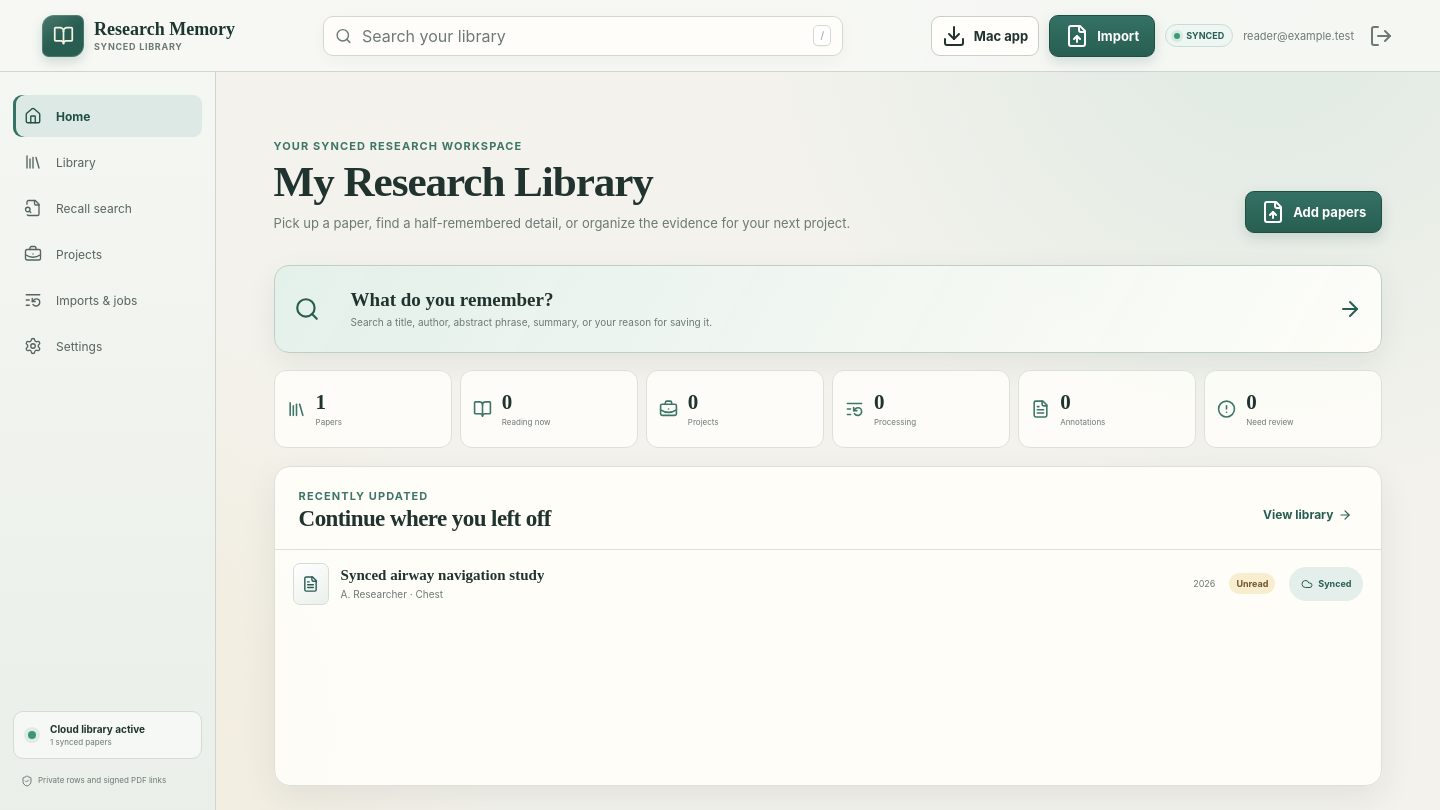
creates a project from the responsive projects view
The width and height of the screenshot is (1440, 810).
Expected: the heading "My Research Library" is shown, x1=274 y1=158 x2=653 y2=205
Click the button "Projects": (108, 254) x1=13 y1=233 x2=202 y2=275
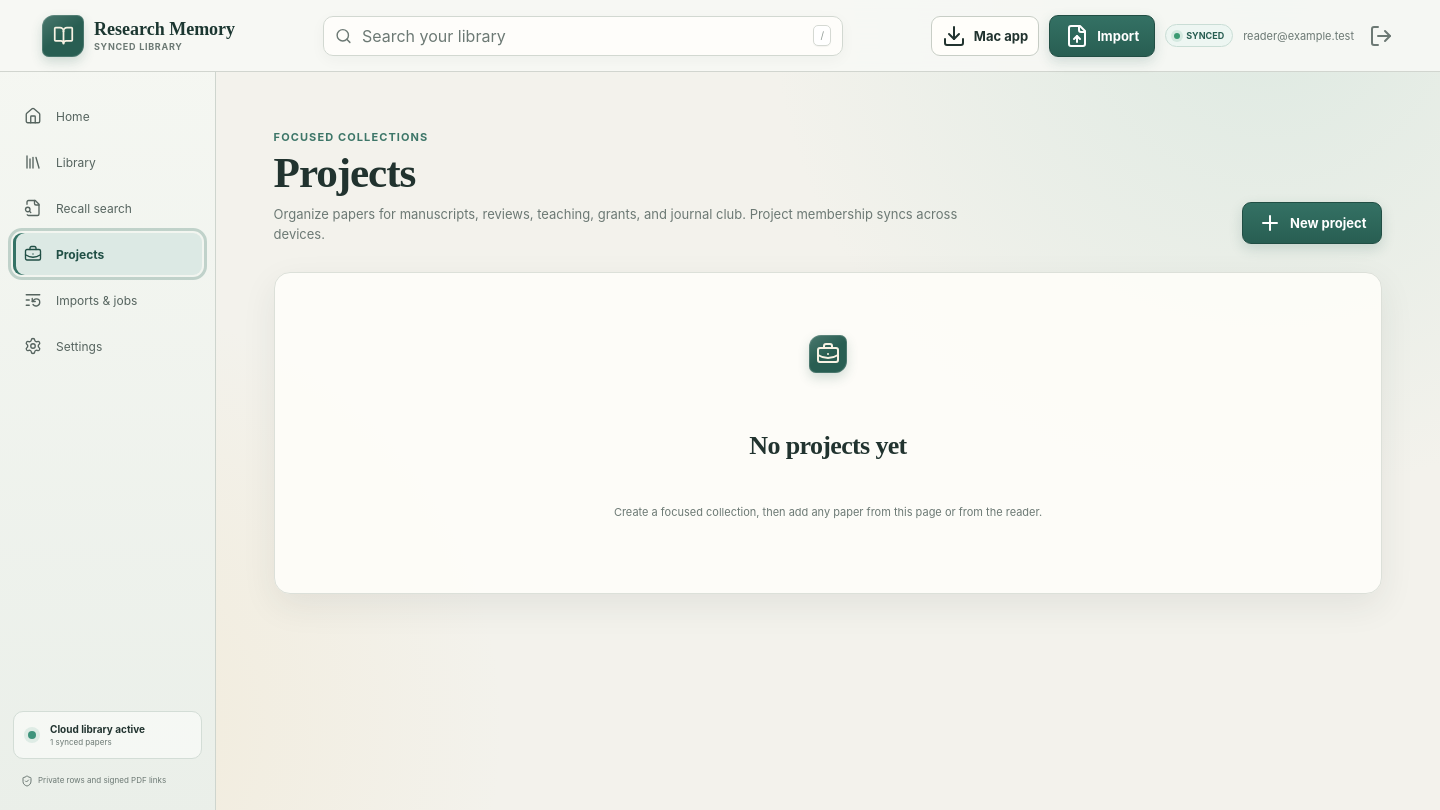
Expected: the heading "Projects" is shown, x1=274 y1=149 x2=415 y2=196
Click the button "New project": (1312, 223) x1=1242 y1=202 x2=1382 y2=244
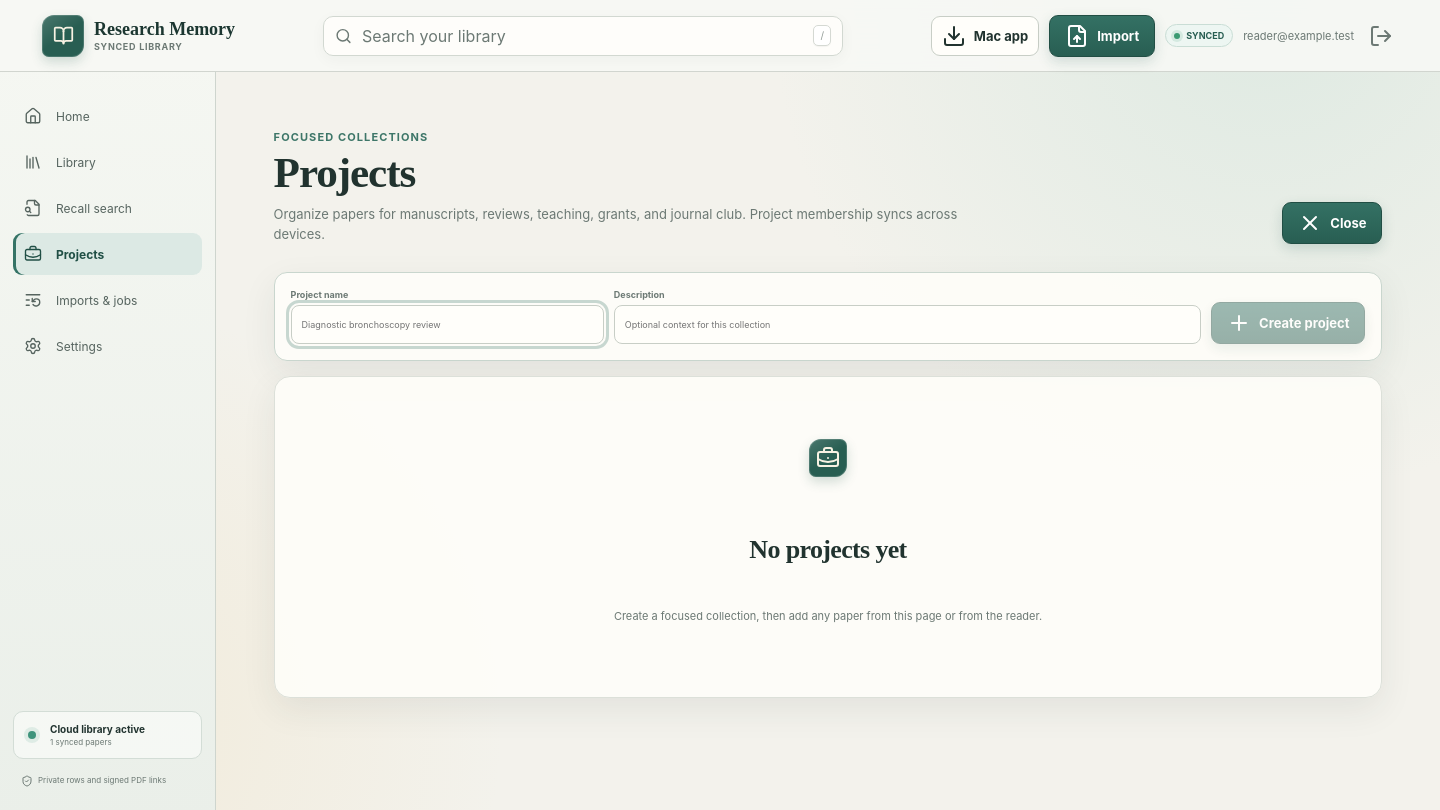
In the field labelled "Project name": (447, 325) x1=291 y1=305 x2=604 y2=344, type "Airway review"
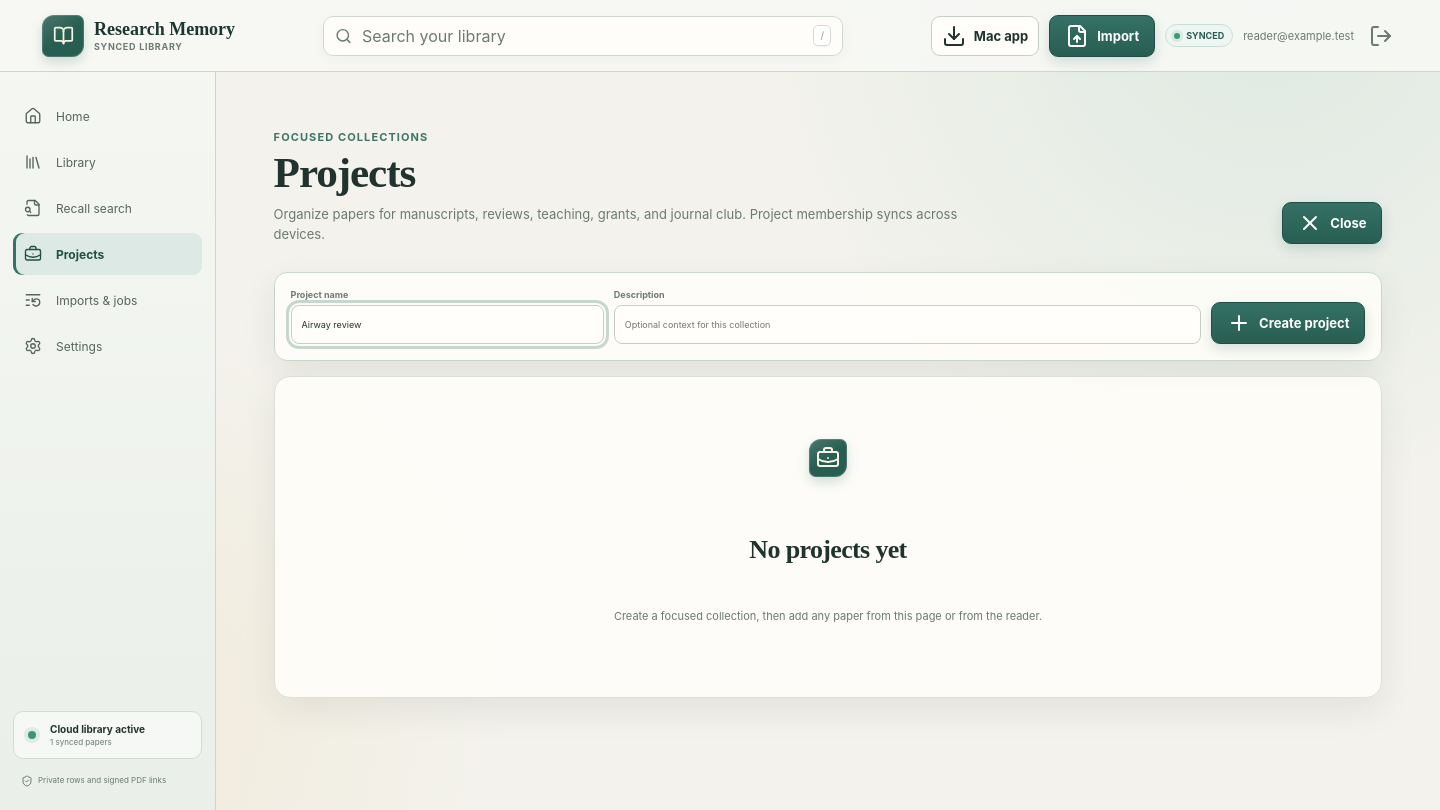
In the field labelled "Description": (907, 325) x1=614 y1=305 x2=1201 y2=344, type "Evidence collection"
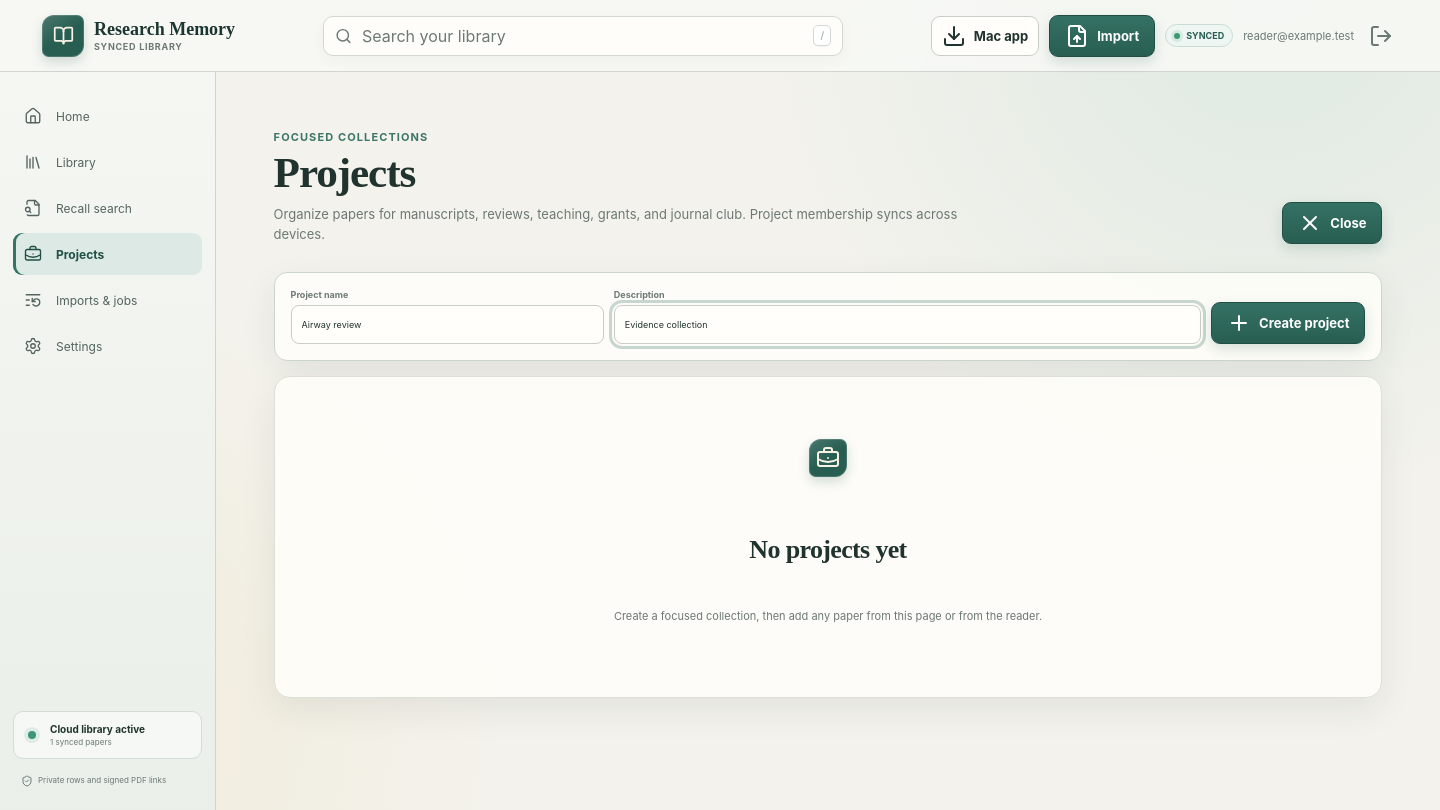
Click the button "Create project": (1288, 323) x1=1211 y1=302 x2=1365 y2=344
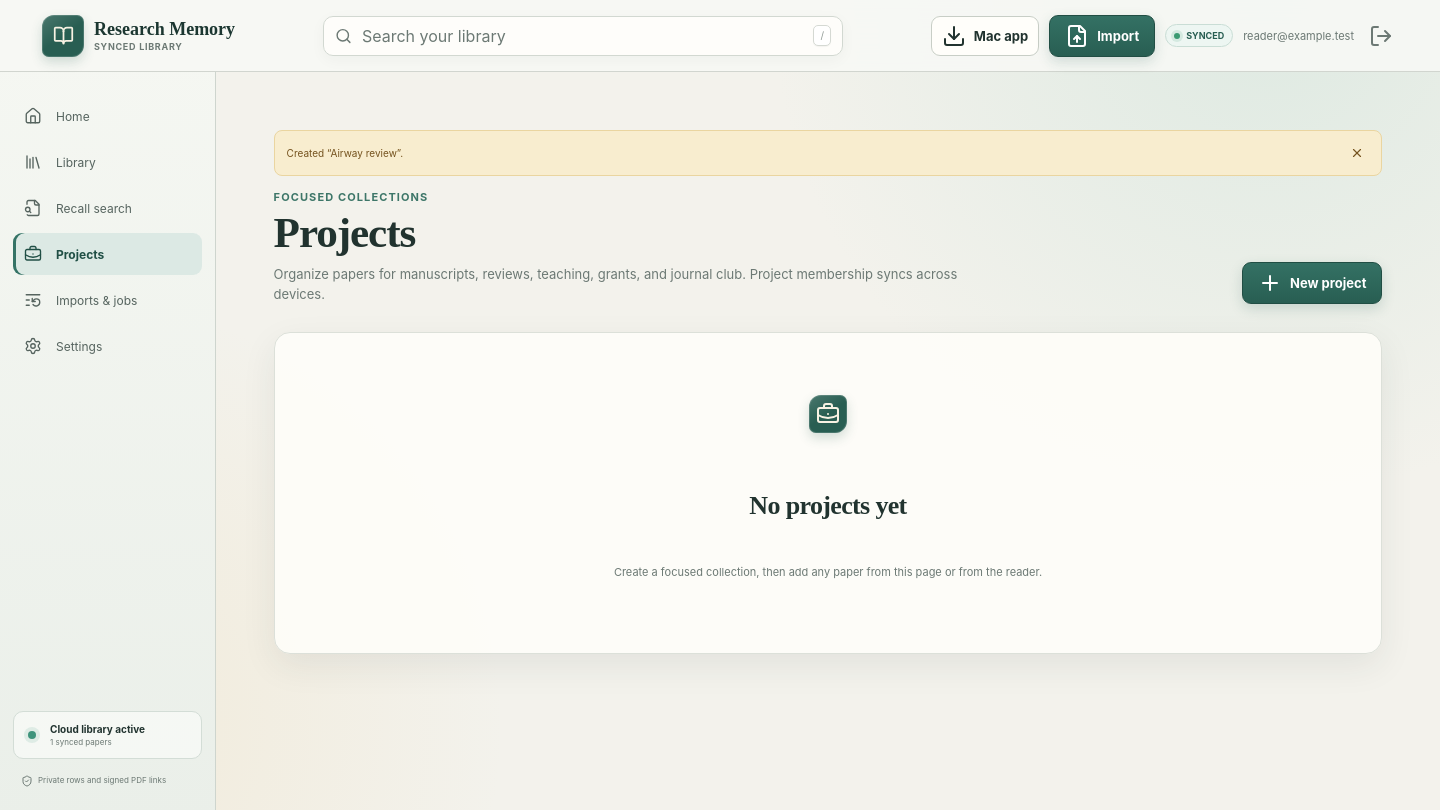
Expected: the message reads "Created “Airway review”.", x1=287 y1=147 x2=403 y2=159
